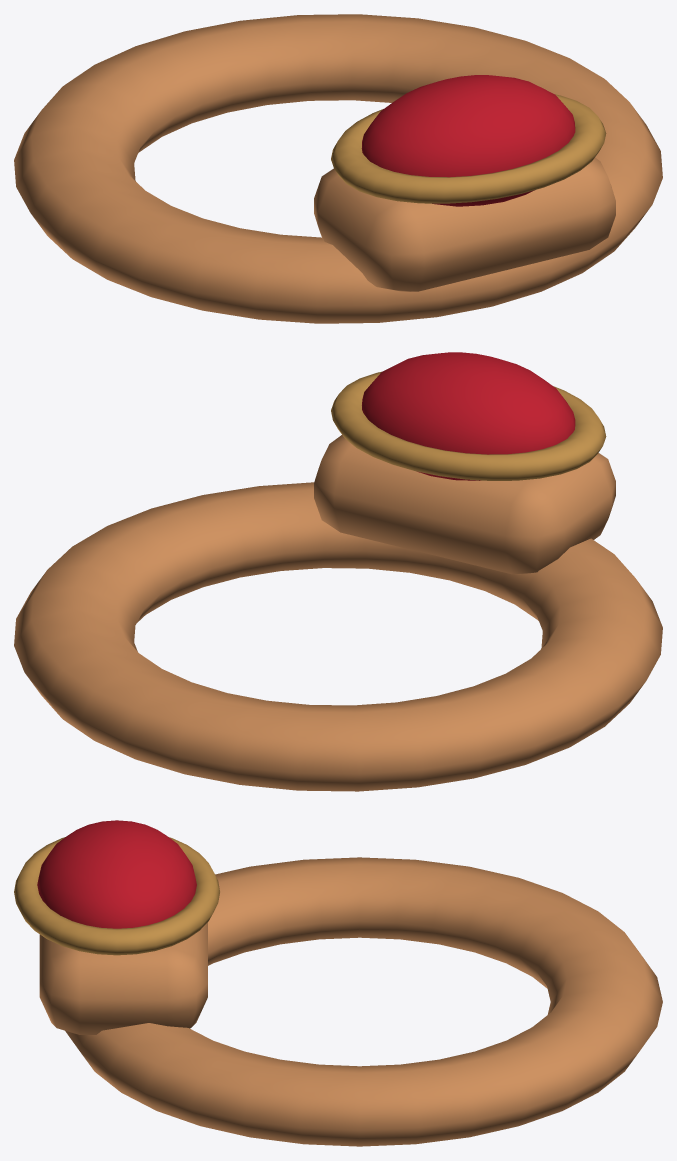
File: copper_ring.glb
3 views of the same model, one above another, from view 1: azimuth 30°, elevation 25°; view 2: azimuth 150°, elevation 25°; view 3: azimuth 270°, elevation 25° (orthographic). The views are drawn at different scales.
Visible parts, largest first — view 1: thick copper band, signet shoulder, red cabochon, oval bezel; view 2: thick copper band, signet shoulder, red cabochon, oval bezel; view 3: thick copper band, red cabochon, signet shoulder, oval bezel.
Boxes of the visible parts, x1,y1,x2,y2 form: thick copper band: (14,14,662,323); signet shoulder: (314,157,615,291); red cabochon: (361,75,575,206); oval bezel: (331,94,606,203); thick copper band: (14,482,662,791); signet shoulder: (314,435,615,574); red cabochon: (362,352,575,480); oval bezel: (331,371,606,480); thick copper band: (65,857,662,1146); red cabochon: (37,820,196,928); signet shoulder: (39,922,207,1034); oval bezel: (14,837,219,955).
Size of the model in its own units: 0.27 by 0.0972 by 0.2889.
